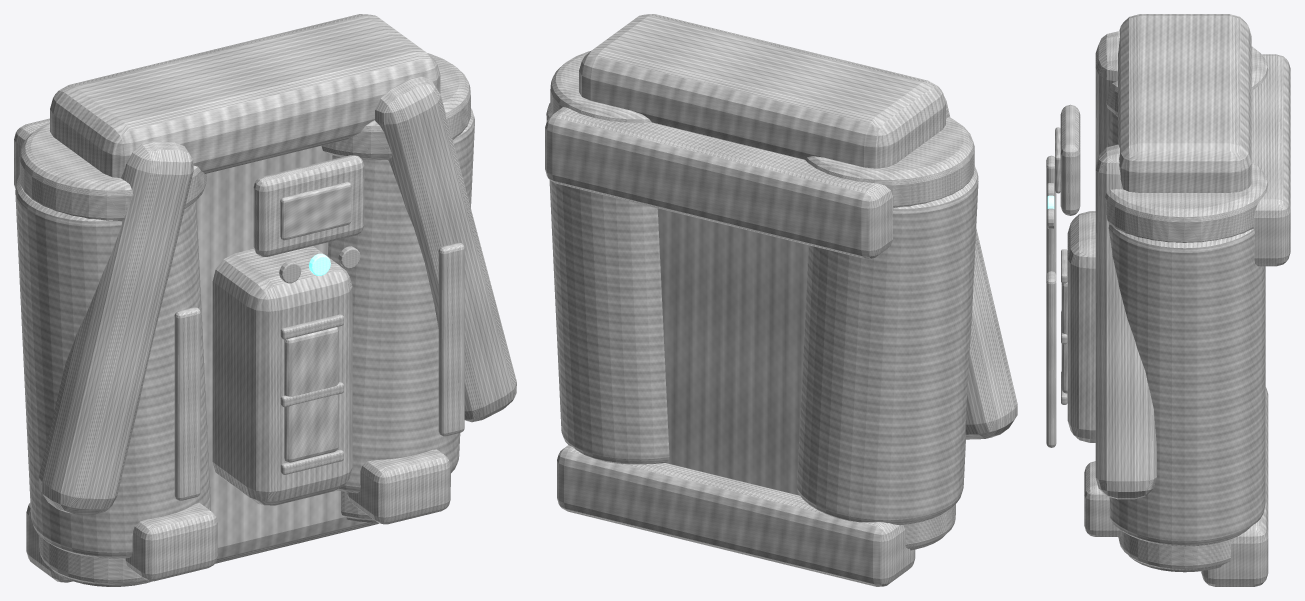
The model's file is jetpack_variant_a.glb.
The picture shows the model from 3 angles, left to right: view 1: azimuth 30°, elevation 25°; view 2: azimuth 150°, elevation 25°; view 3: azimuth 270°, elevation 25°; orthographic projection. The views are drawn at different scales.
Visible parts, largest first — view 1: Upper protective bridge, Thruster pod, Shoulder strap, Fuel cell shell, Thruster pod.001, Shoulder strap.001, Backplate.001, Upper turbine cap, Fuel level window, Status panel bezel, Lower harness clasp.001, Lower harness clasp (+9 smaller); view 2: Thruster pod, Backplate.001, Upper protective bridge, Thruster pod.001, Upper harness bridge, Waist stabilizer, Upper turbine cap, Shoulder strap, Upper turbine cap.001, Lower exhaust collar; view 3: Thruster pod.001, Upper protective bridge, Shoulder strap.001, Upper turbine cap.001, Upper harness bridge, Fuel cell shell, Waist stabilizer, Lower exhaust collar.001, Status panel bezel, Shoulder strap, Pod service stripe.001, Lower harness clasp.001 (+4 smaller).
Part boxes in pixels (box(x1,y1,x2,y2)): Upper protective bridge: box(50, 14, 440, 177); Thruster pod: box(15, 175, 210, 558); Shoulder strap: box(39, 141, 193, 514); Fuel cell shell: box(212, 246, 352, 505); Thruster pod.001: box(327, 108, 474, 493); Shoulder strap.001: box(374, 76, 516, 422); Backplate.001: box(196, 145, 378, 563); Upper turbine cap: box(19, 122, 206, 221); Fuel level window: box(284, 327, 338, 462); Status panel bezel: box(253, 155, 364, 256); Lower harness clasp.001: box(347, 449, 450, 524); Lower harness clasp: box(125, 502, 217, 581); Thruster pod: box(797, 166, 978, 525); Backplate.001: box(657, 208, 808, 495); Upper protective bridge: box(579, 14, 945, 168); Thruster pod.001: box(546, 103, 669, 464); Upper harness bridge: box(545, 107, 893, 258); Waist stabilizer: box(557, 445, 915, 586); Upper turbine cap: box(805, 117, 974, 207); Shoulder strap: box(944, 96, 1017, 439); Upper turbine cap.001: box(550, 51, 651, 122); Lower exhaust collar: box(903, 504, 955, 548); Thruster pod.001: box(1108, 224, 1265, 546); Upper protective bridge: box(1118, 14, 1251, 192); Shoulder strap.001: box(1095, 144, 1156, 499); Upper turbine cap.001: box(1105, 162, 1268, 242); Upper harness bridge: box(1251, 54, 1290, 266); Fuel cell shell: box(1067, 211, 1095, 442); Waist stabilizer: box(1201, 387, 1268, 586); Lower exhaust collar.001: box(1118, 532, 1231, 570); Status panel bezel: box(1060, 104, 1080, 215); Shoulder strap: box(1095, 31, 1119, 164); Pod service stripe.001: box(1046, 271, 1056, 447); Lower harness clasp.001: box(1084, 461, 1122, 536).
Size of what is drawn, in the model's own units: 0.8574 by 0.86 by 0.4382.
Materials: 8 (8 with a texture image).
